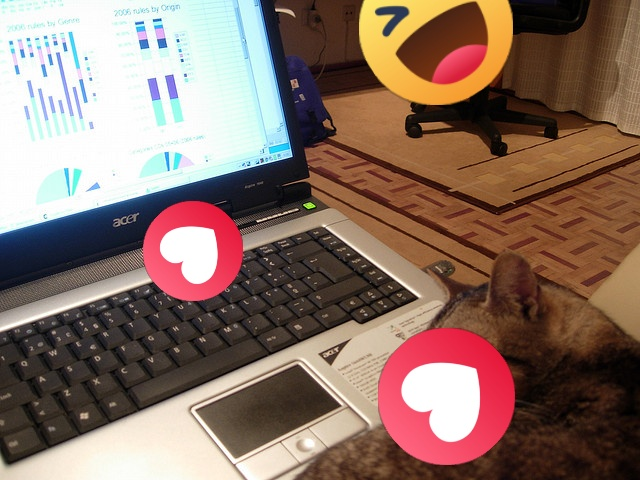haha: (359, 0, 513, 105)
love: (378, 328, 515, 465), (143, 201, 243, 301)
